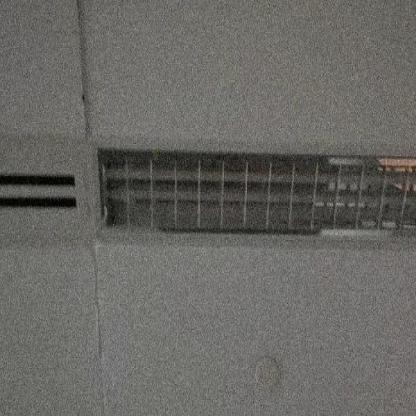light_off: (91, 117, 415, 271)
